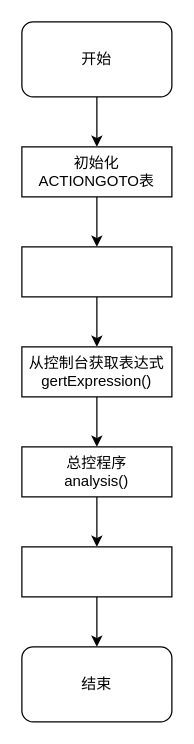
This 194x744 diagram has some shape labels left out. The shapes that lost their labels are listed below. From the top down, each one's centre as x and y in pixels, then its label:
point (96, 271): 初始化文法 initGrammer()
point (96, 571): 输出结果
